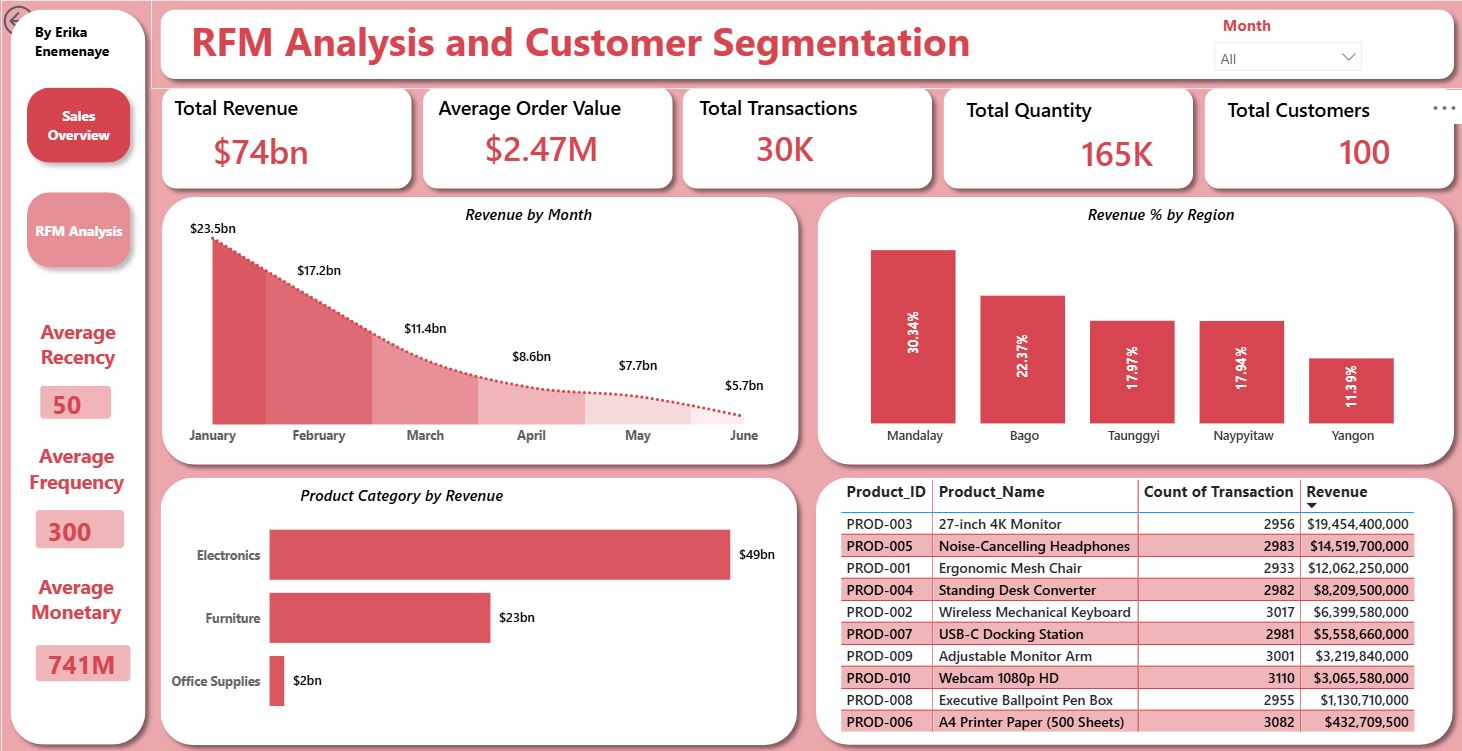

The page's visual inventory and layout, read from the dashboard file:
{"tool":"powerbi","page":{"name":"Sales Overview","canvas":[1400,720],"ordinal":0},"visuals":[{"type":"shape","box":[146.1,0,1253.3,84.5],"z":0,"group":"g22"},{"type":"shape","box":[147.2,73.8,256.4,114.6],"z":0,"group":"g2"},{"type":"shape","box":[396.1,73.8,256.4,114.6],"z":0,"group":"g4"},{"type":"shape","box":[894.1,73.8,256.4,114.6],"z":0,"group":"g7"},{"type":"shape","box":[1143,73.8,256.4,114.6],"z":0,"group":"g8"},{"type":"group","id":"g1","title":"Group 5","box":[147.5,179,626,273.6],"z":0,"group":"g18"},{"type":"shape","box":[772.1,447.5,626,273.3],"z":0,"group":"g6"},{"type":"shape","box":[3.5,0,146.8,720],"z":1000,"group":"g12"},{"type":"group","id":"g2","title":"Group 1","box":[147.2,73.8,256.4,114.6],"z":1000,"group":"g10"},{"type":"cardVisual","fields":{"Data":["Sales Transaction.Average Order Value"]},"box":[434.8,103.9,200.5,70.2],"z":1000,"group":"g4"},{"type":"cardVisual","fields":{"Data":["Count(Sales Transaction.Customer_ID)"]},"box":[1251.8,106.6,120.9,70.8],"z":1000,"group":"g8"},{"type":"cardVisual","fields":{"Data":["Sum(Sales Transaction.Amount)"]},"box":[175.8,106.7,200.5,70.2],"z":1000,"group":"g2"},{"type":"cardVisual","fields":{"Data":["Sum(Sales Transaction.Quantity)"]},"box":[1006.4,108.3,131.3,70.8],"z":1000,"group":"g7"},{"type":"group","id":"g3","title":"Group 8","box":[773.5,179,626,273.6],"z":1000,"group":"g18"},{"type":"cardVisual","fields":{"Data":["RFM Analysis & Customer Segmt.Average Recency"]},"box":[23,350.8,102.7,66.2],"z":1000,"group":"g9"},{"type":"shape","box":[146.1,446.9,626,273.6],"z":1000,"group":"g5"},{"type":"cardVisual","fields":{"Data":["RFM Analysis & Customer Segmt.Average Frequency"]},"box":[18.8,468.8,119.2,71.2],"z":1000,"group":"g11"},{"type":"cardVisual","fields":{"Data":["RFM Analysis & Customer Segmt.Average Monetary"]},"box":[18.3,599.9,125.9,69.6],"z":1000,"group":"g13"},{"type":"textbox","box":[179.1,8.3,826.4,66.2],"z":2000,"group":"g22"},{"type":"group","id":"g4","title":"Group 1","box":[396.1,73.8,256.4,114.6],"z":2000,"group":"g10"},{"type":"shape","box":[645.1,73.8,256.4,114.6],"z":2000},{"type":"textbox","box":[163,83.8,141.8,35.8],"z":2000,"group":"g2"},{"type":"textbox","box":[415.1,84.2,209,41.4],"z":2000,"group":"g4"},{"type":"textbox","box":[920,85.9,141.6,36.3],"z":2000,"group":"g7"},{"type":"textbox","box":[1168.9,85.9,171,41.4],"z":2000,"group":"g8"},{"type":"areaChart","title":"Revenue by Month","fields":{"Category":["Sales Transaction.Date.Variation.Date Hierarchy.Month"],"Y":["Sum(Sales Transaction.Amount)"]},"box":[159,199.1,598.7,234.9],"z":2000,"group":"g15"},{"type":"textbox","box":[31.5,298.2,89.4,62.9],"z":2000,"group":"g9"},{"type":"textbox","box":[19.4,416.2,112.6,62.9],"z":2000,"group":"g11"},{"type":"group","id":"g5","title":"Group 11","box":[146.1,446.9,626,273.6],"z":2000,"group":"g18"},{"type":"textbox","box":[11.7,541.9,125.9,64.6],"z":2000,"group":"g13"},{"type":"cardVisual","fields":{"Data":["CountNonNull(Sales Transaction.Transaction_ID)"]},"box":[694.8,108.6,182.2,62.9],"z":3000},{"type":"group","id":"g6","title":"Group 14","box":[772.1,447.5,626,273.3],"z":3000,"group":"g18"},{"type":"group","id":"g7","title":"Group 1","box":[894.1,73.8,256.4,114.6],"z":4000,"group":"g10"},{"type":"textbox","box":[664.1,84.2,188.2,34.5],"z":4000},{"type":"columnChart","title":"Revenue % by Region","fields":{"Category":["Sales Transaction.Region"],"Y":["Sales Transaction.Revenue %"]},"box":[786.4,199.1,595.9,234.9],"z":4000,"group":"g16"},{"type":"actionButton","box":[0,0,100,40],"z":5000},{"type":"group","id":"g8","title":"Group 1","box":[1143,73.8,256.4,114.6],"z":5000,"group":"g10"},{"type":"clusteredBarChart","title":"Revenue by Product_Category","fields":{"Category":["Sales Transaction.Product_Category"],"Y":["Sum(Sales Transaction.Amount)"]},"box":[159,468.7,587.9,236.8],"z":6000,"group":"g17"},{"type":"shape","box":[147.5,179,626,273.6],"z":7000,"group":"g1"},{"type":"textbox","box":[440.5,188.8,157.3,33.1],"z":7000,"group":"g15"},{"type":"pageNavigator","box":[18.3,74.5,117.6,190.5],"z":8000,"group":"g20"},{"type":"textbox","box":[1035.1,188.8,157.3,33.1],"z":8000,"group":"g16"},{"type":"tableEx","fields":{"Values":["Sales Transaction.Product_ID","Sales Transaction.Product_Name","Sales Transaction.Transaction_ID","Sum(Sales Transaction.Amount)"]},"box":[800,453.7,594.6,251.7],"z":8000,"group":"g6"},{"type":"group","id":"g9","title":"Group 1","box":[23,298.2,102.7,118.8],"z":9000,"group":"g20"},{"type":"textbox","box":[283.2,457.1,236.8,33.1],"z":9000,"group":"g17"},{"type":"group","id":"g10","title":"Group 4","box":[146.1,0,1253.3,188.4],"z":10000,"group":"g19"},{"type":"group","id":"g11","title":"Group 1","box":[18.8,416.2,119.2,123.8],"z":10000,"group":"g20"},{"type":"group","id":"g12","title":"Group 7","box":[3.5,0,146.8,720],"z":11000,"group":"g14"},{"type":"shape","box":[773.5,179,626,273.6],"z":11000,"group":"g3"},{"type":"group","id":"g13","title":"Group 1","box":[11.7,541.9,132.5,127.5],"z":11000,"group":"g20"},{"type":"group","id":"g14","title":"Group 10","box":[3.5,0,146.8,720],"z":12000,"group":"g19"},{"type":"textbox","box":[30.1,15.8,97.4,50.1],"z":12000,"group":"g14"},{"type":"group","id":"g15","title":"Group 12","box":[159,188.8,598.7,245.2],"z":13000,"group":"g1"},{"type":"group","id":"g16","title":"Group 13","box":[786.4,188.8,595.9,245.2],"z":14000,"group":"g3"},{"type":"group","id":"g17","title":"Group 9","box":[159,457.1,587.9,248.4],"z":14003,"group":"g5"},{"type":"group","id":"g18","title":"Group 15","box":[146.1,179,1253.3,541.8],"z":14006,"group":"g19"},{"type":"group","id":"g19","title":"Group 16","box":[3.5,0,1396,720.8],"z":14007},{"type":"group","id":"g20","title":"Group 6","box":[11.7,74.5,132.5,594.9],"z":15001,"group":"g12"},{"type":"slicer","fields":{"Values":["Sales Transaction.Date.Variation.Date Hierarchy.Month"]},"box":[1151,29.8,160.6,41.4],"z":15007},{"type":"textbox","box":[1164.3,8.3,119.2,31.5],"z":17000,"group":"g21"},{"type":"group","id":"g21","title":"Group 2","box":[1164.3,8.3,119.2,31.5],"z":24001,"group":"g22"},{"type":"group","id":"g22","title":"Group 3","box":[146.1,0,1253.3,84.5],"z":24002,"group":"g10"}]}

Visuals, with their boxes in screenshot pixels (x1, y1, x2, y2), scaled from the page's 1400x720 canvas onto the 1462x751 screenshot:
shape: (153,0,1461,88)
shape: (154,77,421,197)
shape: (414,77,681,197)
shape: (934,77,1201,197)
shape: (1194,77,1461,197)
"Group 5" group: (154,187,808,472)
shape: (806,467,1460,750)
shape: (4,0,157,750)
"Group 1" group: (154,77,421,197)
cardVisual - Sales Transaction.Average Order Value: (454,108,663,182)
cardVisual - Count(Sales Transaction.Customer_ID): (1307,111,1433,185)
cardVisual - Sum(Sales Transaction.Amount): (184,111,393,185)
cardVisual - Sum(Sales Transaction.Quantity): (1051,113,1188,187)
"Group 8" group: (808,187,1461,472)
cardVisual - RFM Analysis & Customer Segmt.Average Recency: (24,366,131,435)
shape: (153,466,806,750)
cardVisual - RFM Analysis & Customer Segmt.Average Frequency: (20,489,144,563)
cardVisual - RFM Analysis & Customer Segmt.Average Monetary: (19,626,151,698)
textbox: (187,9,1050,78)
"Group 1" group: (414,77,681,197)
shape: (674,77,941,197)
textbox: (170,87,318,125)
textbox: (433,88,652,131)
textbox: (961,90,1109,127)
textbox: (1221,90,1399,133)
"Revenue by Month" areaChart: (166,208,791,453)
textbox: (33,311,126,377)
textbox: (20,434,138,500)
"Group 11" group: (153,466,806,750)
textbox: (12,565,144,633)
cardVisual - CountNonNull(Sales Transaction.Transaction_ID): (726,113,916,179)
"Group 14" group: (806,467,1460,750)
"Group 1" group: (934,77,1201,197)
textbox: (694,88,890,124)
"Revenue % by Region" columnChart: (821,208,1444,453)
actionButton: (0,0,104,42)
"Group 1" group: (1194,77,1461,197)
"Revenue by Product_Category" clusteredBarChart: (166,489,780,736)
shape: (154,187,808,472)
textbox: (460,197,624,231)
pageNavigator: (19,78,142,276)
textbox: (1081,197,1245,231)
tableEx - Sales Transaction.Product_ID x Sales Transaction.Product_Name: (835,473,1456,736)
"Group 1" group: (24,311,131,435)
textbox: (296,477,543,511)
"Group 4" group: (153,0,1461,197)
"Group 1" group: (20,434,144,563)
"Group 7" group: (4,0,157,750)
shape: (808,187,1461,472)
"Group 1" group: (12,565,151,698)
"Group 10" group: (4,0,157,750)
textbox: (31,16,133,69)
"Group 12" group: (166,197,791,453)
"Group 13" group: (821,197,1444,453)
"Group 9" group: (166,477,780,736)
"Group 15" group: (153,187,1461,750)
"Group 16" group: (4,0,1461,750)
"Group 6" group: (12,78,151,698)
slicer - Sales Transaction.Date.Variation.Date Hierarchy.Month: (1202,31,1370,74)
textbox: (1216,9,1340,42)
"Group 2" group: (1216,9,1340,42)
"Group 3" group: (153,0,1461,88)
